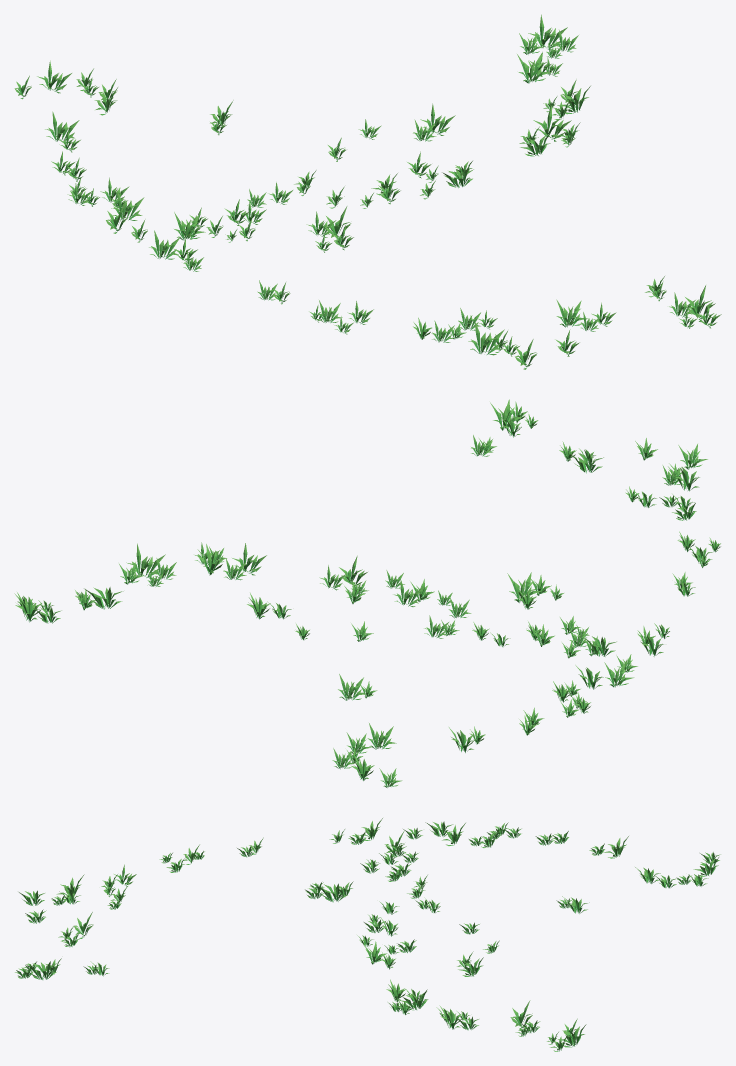
Rendered from Area_08_31.fbx.
3 renders of one model, top to bottom at view 1: azimuth 30°, elevation 25°; view 2: azimuth 150°, elevation 25°; view 3: azimuth 270°, elevation 25°, orthographic. The views are drawn at different scales.
Visible parts, largest first — view 1: Area_08_31; view 2: Area_08_31; view 3: Area_08_31.
Boxes of the visible parts, bbox=[...] form: Area_08_31: bbox=[14, 14, 721, 369]; Area_08_31: bbox=[14, 399, 720, 787]; Area_08_31: bbox=[15, 818, 720, 1051].
Bounding box in the file's own units: 2177 × 116 × 2905.
